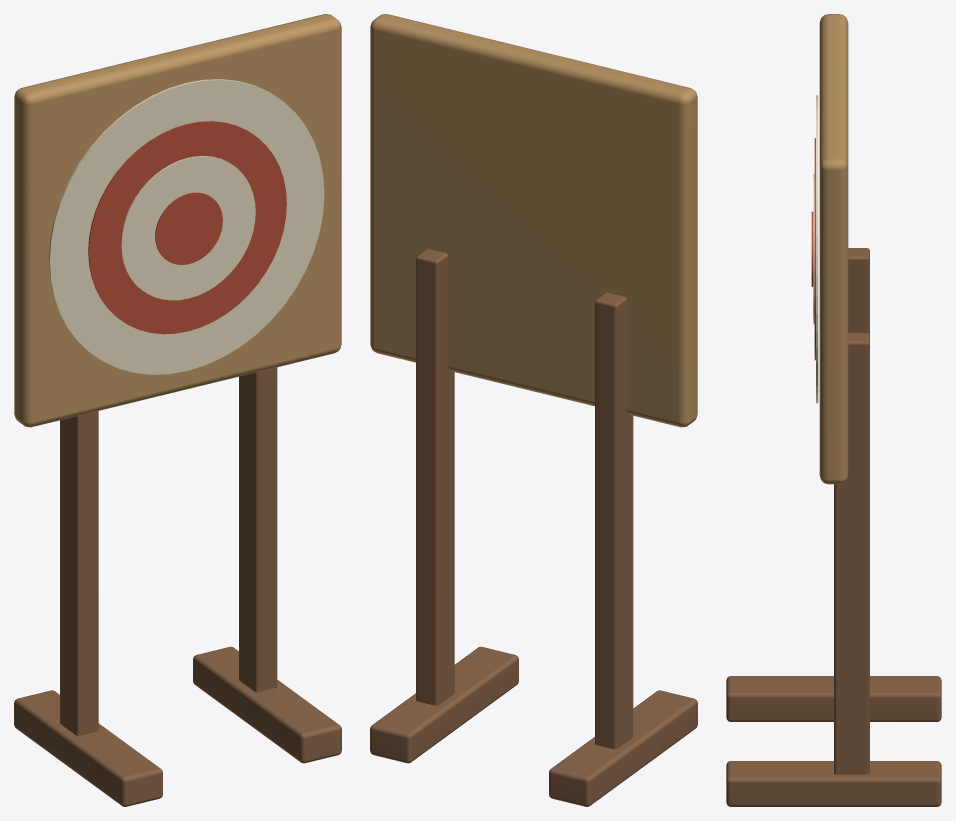
Rendered from practice_target.glb.
3 renders of one model, left to right at view 1: azimuth 30°, elevation 25°; view 2: azimuth 150°, elevation 25°; view 3: azimuth 270°, elevation 25°, orthographic. The views are drawn at different scales.
Parts seen in each view (by area): view 1: Target board, Target ring, Target ring.001, Target support.001, Target support, Target ring.002, Foot.001, Foot, Target ring.003; view 2: Target board, Target support, Target support.001, Foot.001, Foot; view 3: Target board, Target support.001, Foot.001, Foot, Target support, Target ring, Target ring.001.
Part boxes in pixels (x1,y1,x2,y2): Target board: (14,14,341,427); Target ring: (49,79,324,374); Target ring.001: (88,121,286,334); Target support.001: (239,367,277,692); Target support: (60,411,98,735); Target ring.002: (121,156,255,300); Foot.001: (193,646,341,763); Foot: (14,690,162,806); Target ring.003: (155,192,222,264); Target board: (370,14,697,427); Target support: (595,292,633,749); Target support.001: (416,249,454,705); Foot.001: (370,646,518,763); Foot: (549,690,697,806); Target board: (819,14,848,484); Target support.001: (834,332,869,774); Foot.001: (726,761,941,806); Foot: (726,676,941,721); Target support: (848,248,869,335); Target ring: (816,95,818,403); Target ring.001: (814,138,815,360).
Size of the model in its own units: 1 by 2.06 by 0.6.
